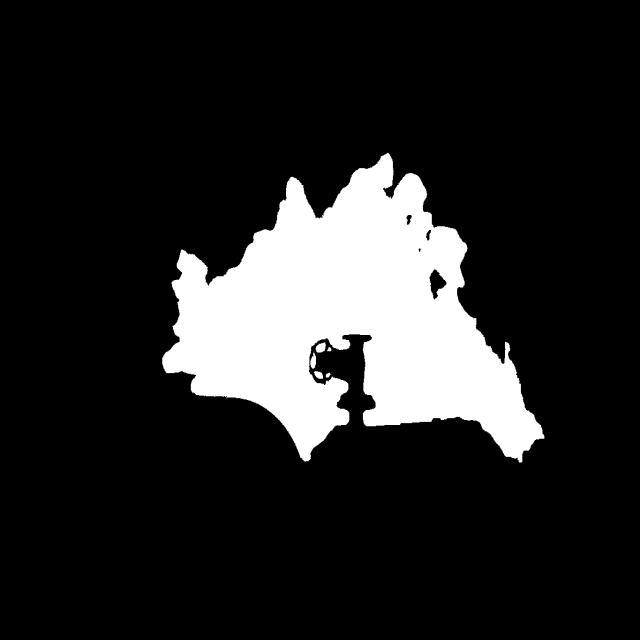fire: (123, 162, 571, 511)
